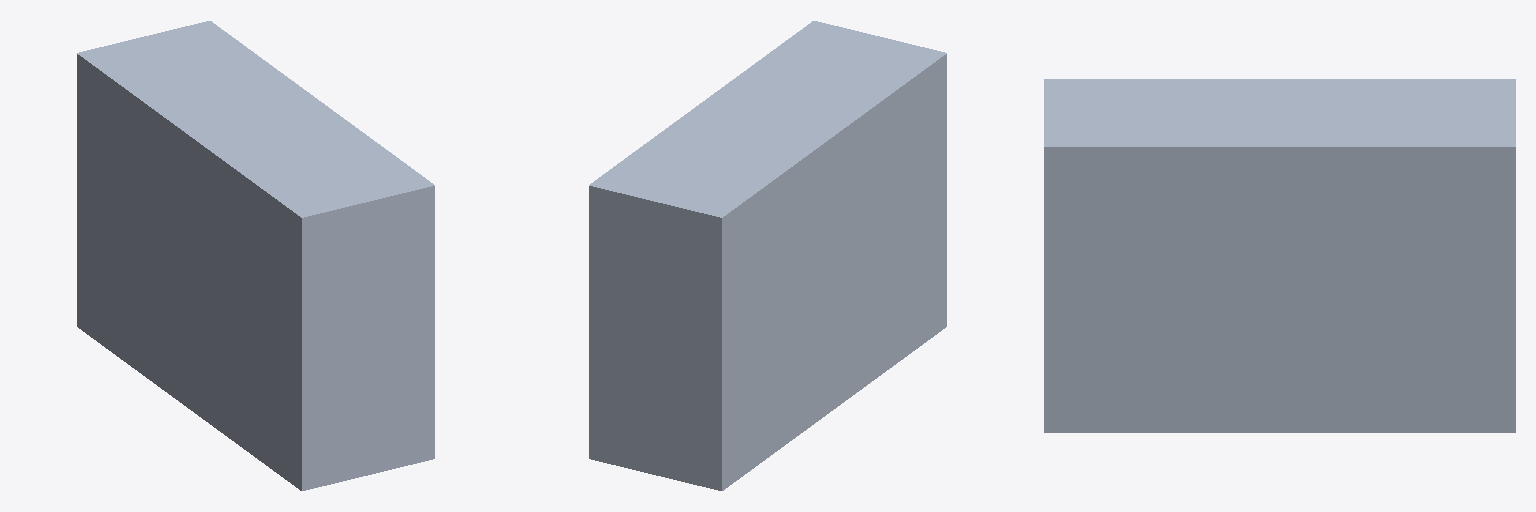
URDF robot description (frontback_box_5kg_training):
<?xml version='1.0' encoding='utf-8'?>
<robot name="frontback_box_5kg_training">
  <material name="frontback_box_material">
    <color rgba="0.76 0.80 0.86 1.0" />
  </material>
  <link name="box_link">
    <inertial>
      <origin xyz="0 0 0" rpy="0 0 0" />
      <mass value="5" />
      <inertia ixx="0.190490581232" ixy="0" ixz="0" iyy="0.0743841586252" iyz="0" izz="0.14695185791" />
    </inertial>
    <visual name="box_visual">
      <origin xyz="0 0 0" rpy="0 0 0" />
      <geometry>
        <box size="0.192391586 0.561845118 0.376174771" />
      </geometry>
      <material name="frontback_box_material" />
    </visual>
    <collision name="box">
      <origin xyz="0 0 0" rpy="0 0 0" />
      <geometry>
        <box size="0.192391586 0.561845118 0.376174771" />
      </geometry>
    </collision>
  </link>
</robot>

--- What the picture shows (computed from the rendered views, not written in the file) ---
The picture shows the robot from 3 angles, left to right: view 1: azimuth 30°, elevation 25°; view 2: azimuth 150°, elevation 25°; view 3: azimuth 270°, elevation 25°; orthographic projection.
Model frontback_box_5kg_training with 1 links and 0 joints (none), rooted at box_link, posed every joint at zero.
Visible links, largest first — view 1: box_link; view 2: box_link; view 3: box_link.
Boxes of the visible links, x1,y1,x2,y2 form: box_link: (77, 21, 434, 490); box_link: (589, 21, 946, 490); box_link: (1044, 79, 1515, 432).
Size in the robot's own frame: 0.1924 by 0.5618 by 0.3762 metres.
Geometry: primitives only (box / cylinder / sphere), no mesh files.
